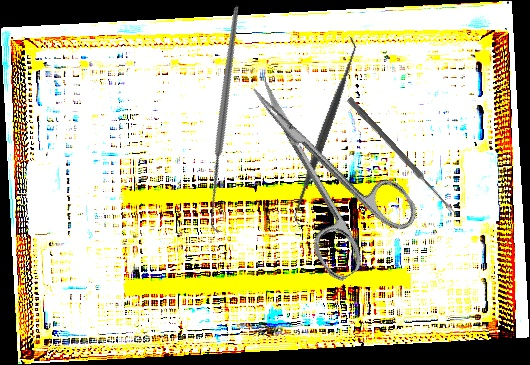Hook Surgical: (119, 4, 336, 235)
Iris Scissors: (217, 51, 427, 285)
Spatula Surgical: (281, 34, 369, 227)
Surgical Spoon: (345, 96, 457, 215)
